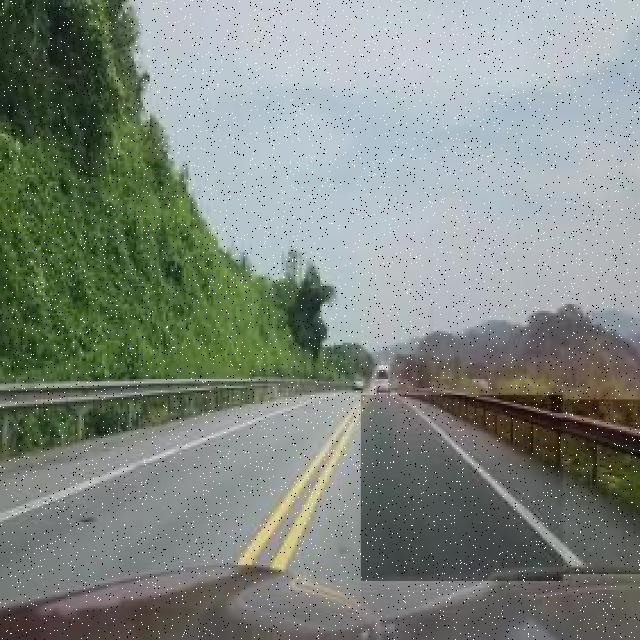clear-road: (0, 393, 361, 608), (290, 396, 563, 581), (410, 401, 640, 572)
